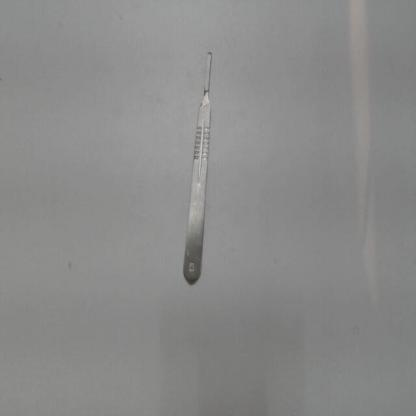No.4 BP Handle: (175, 48, 225, 296)
